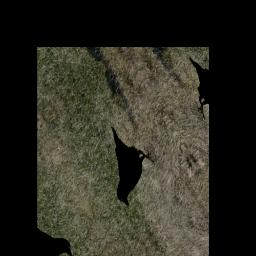Crow: (88, 115, 164, 213)
